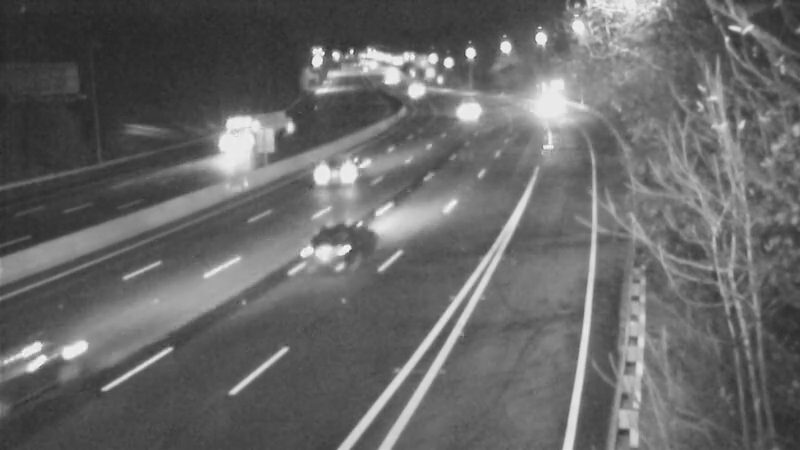vehicle: (1, 320, 99, 430), (300, 130, 380, 210), (294, 209, 374, 289), (392, 63, 442, 113), (437, 84, 487, 134), (519, 85, 569, 135), (203, 112, 253, 162)
